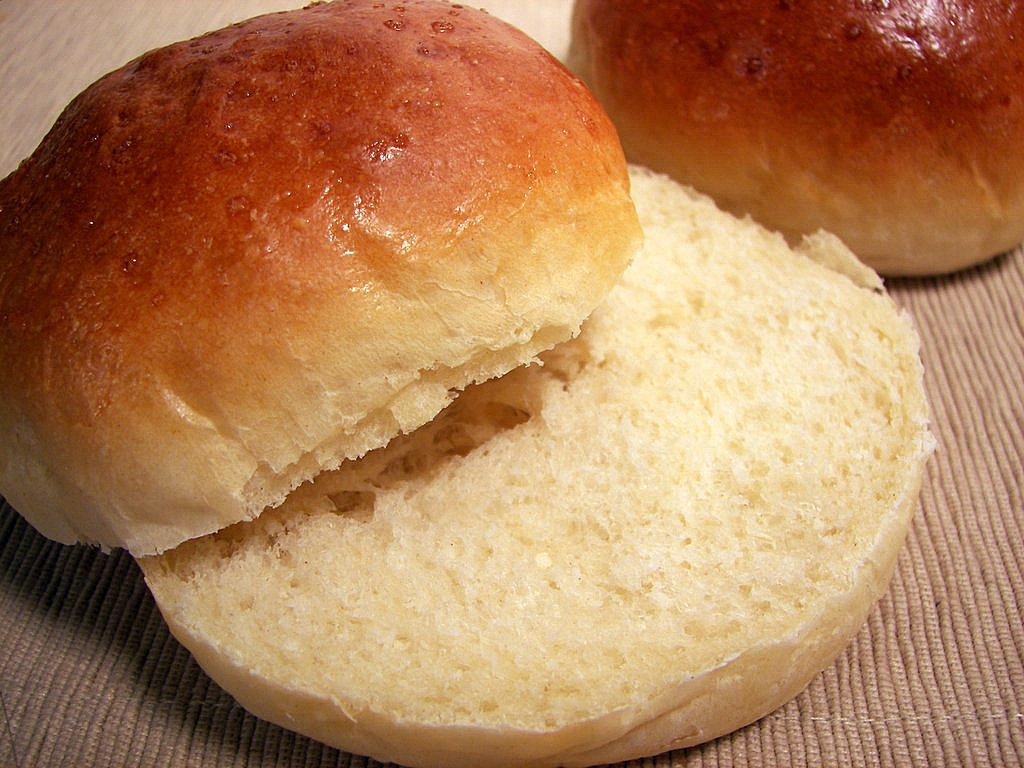hamburger_buns: (1, 1, 925, 750)
